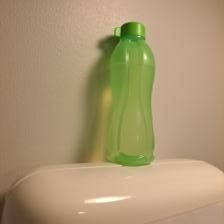bottle: (104, 19, 158, 167)
